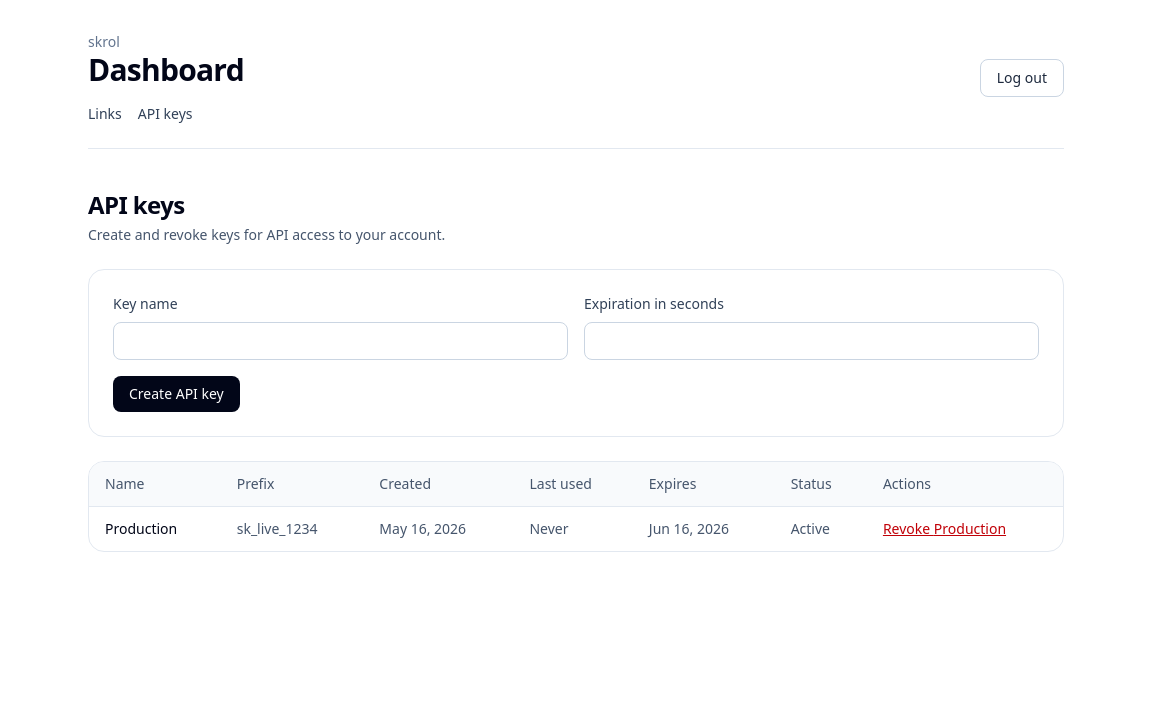
Test case: dashboard api keys page › shows copy error when clipboard write fails
The image size is (1152, 719).
Type "CLI" into the field labelled "Key name" at x=340, y=341, box x1=113 y1=322 x2=568 y2=360
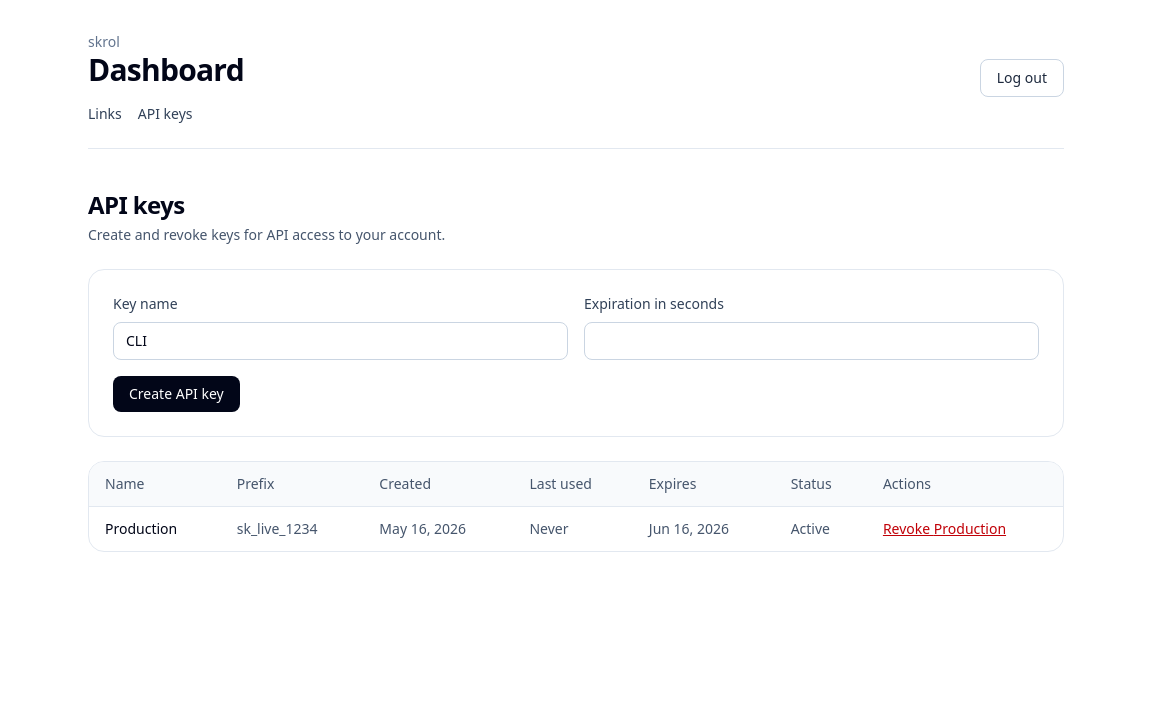
Click the button "Create API key" at x=176, y=394, box x1=113 y1=376 x2=240 y2=412
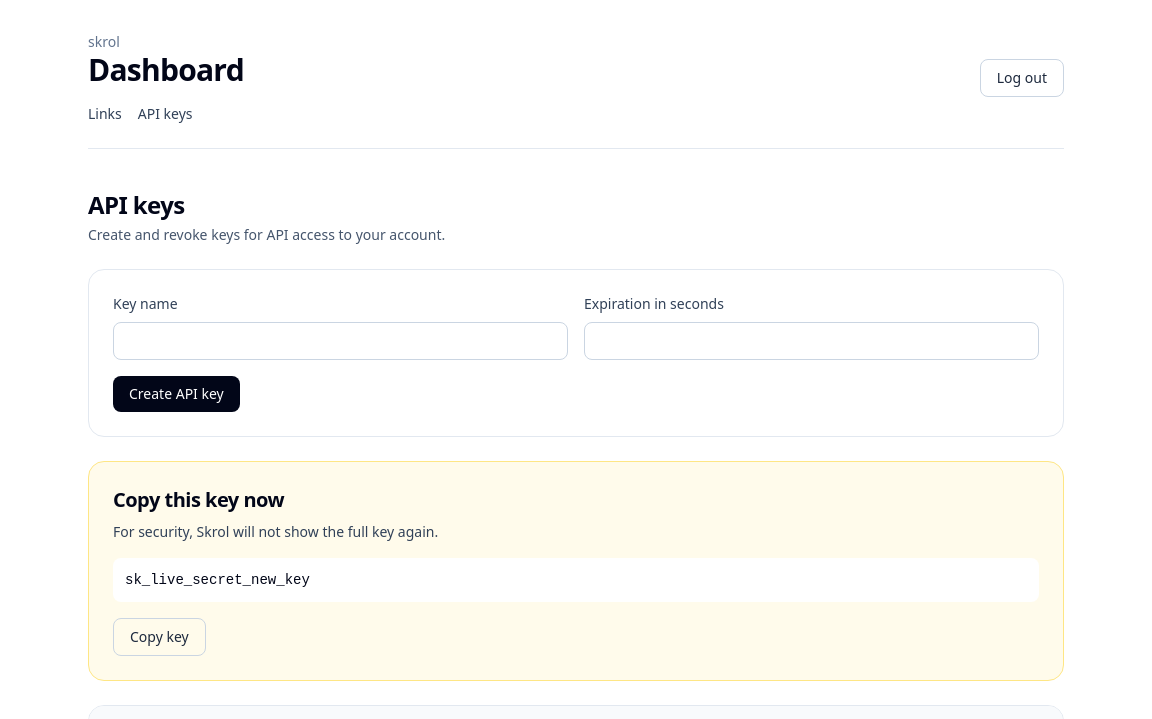
Click the button "Copy key" at x=159, y=637, box x1=113 y1=618 x2=206 y2=656
(page scrolled)
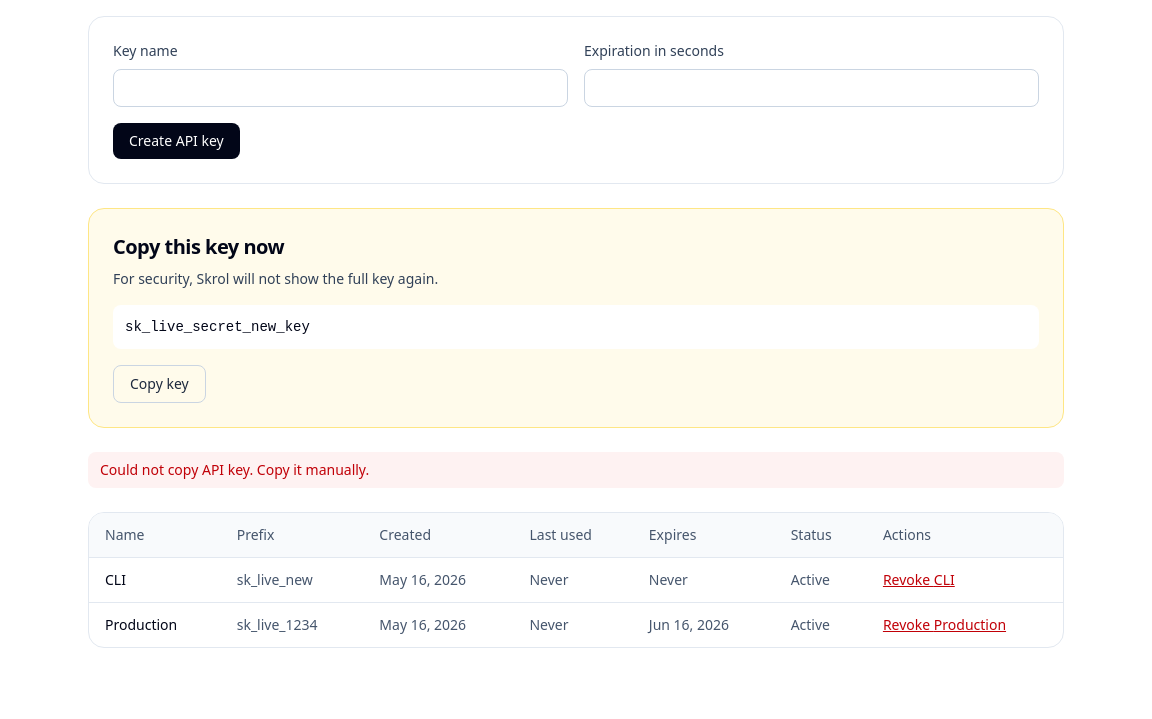
Expected: the text "Production" is shown, x1=89 y1=602 x2=221 y2=647
Expected: the message shows "Could not copy", x1=100 y1=460 x2=369 y2=479
